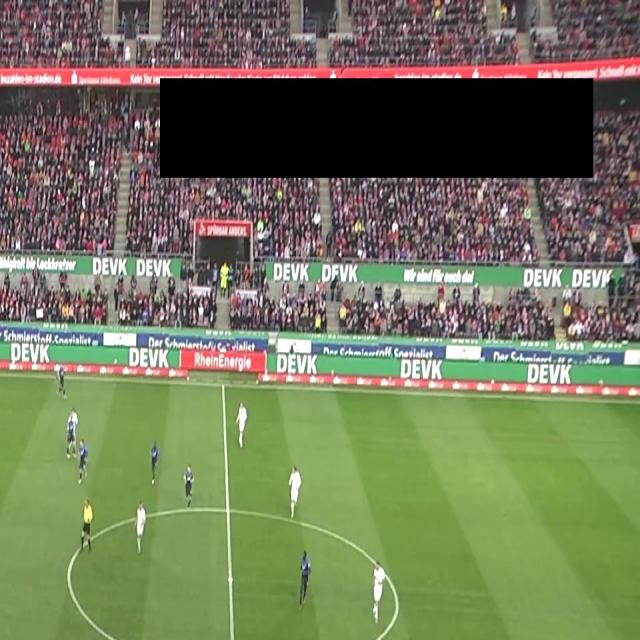referee: (75, 498, 99, 559)
soccer-player: (365, 556, 395, 628), (295, 547, 321, 616), (284, 464, 306, 529), (233, 401, 255, 455), (130, 503, 151, 559), (144, 438, 166, 491), (70, 436, 92, 486), (181, 462, 202, 514), (62, 409, 82, 456), (54, 355, 72, 399)
